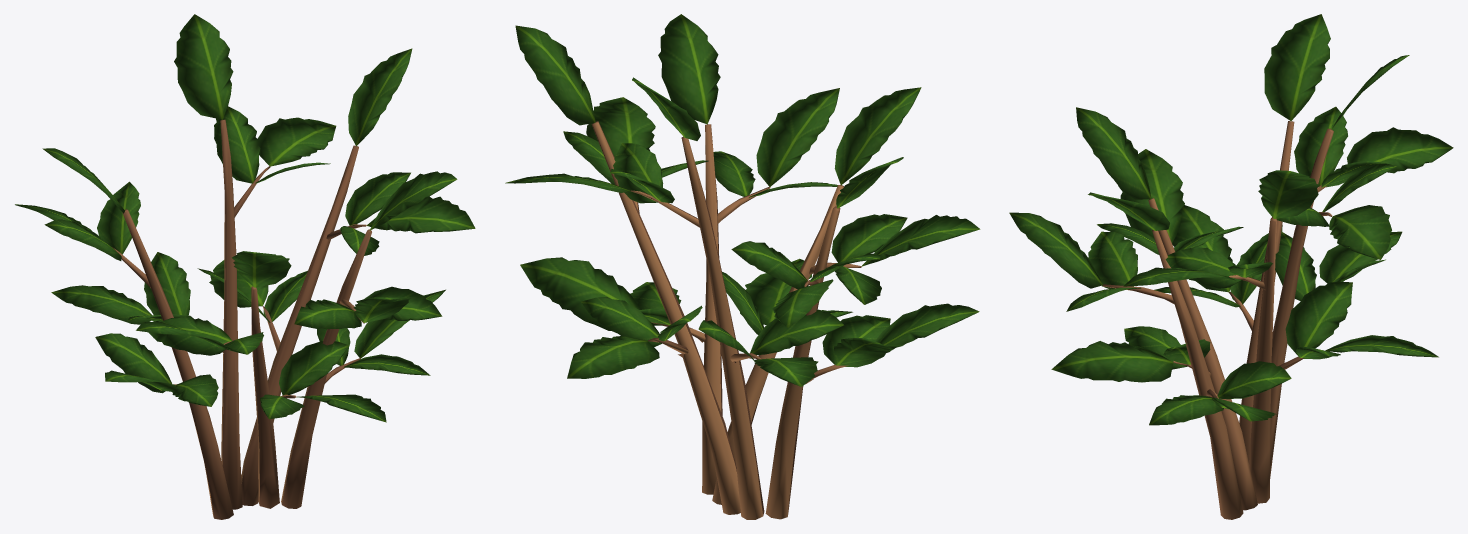
File: NP_Blackberry_Young_LOD1.fbx
3 renders of one model, left to right at view 1: azimuth 30°, elevation 25°; view 2: azimuth 150°, elevation 25°; view 3: azimuth 270°, elevation 25°, orthographic. The views are drawn at different scales.
Visible parts, largest first — view 1: NP_Blackberry_Young; view 2: NP_Blackberry_Young; view 3: NP_Blackberry_Young.
Boxes of the visible parts, x1=… form: NP_Blackberry_Young: x1=15, y1=14, x2=475, y2=519; NP_Blackberry_Young: x1=505, y1=14, x2=980, y2=519; NP_Blackberry_Young: x1=1009, y1=14, x2=1453, y2=519.
Bounding box in the file's own units: 45.77 × 50.36 × 44.63.
Materials: 1 (1 with a texture image).
